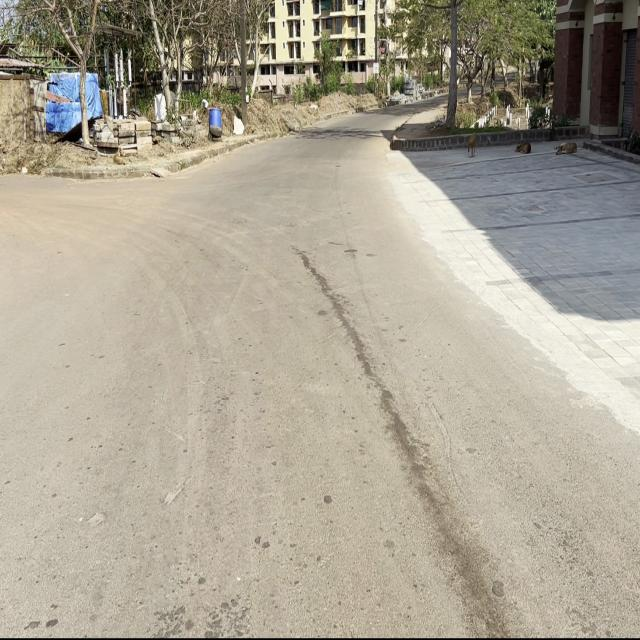Road: (0, 116, 640, 640)
